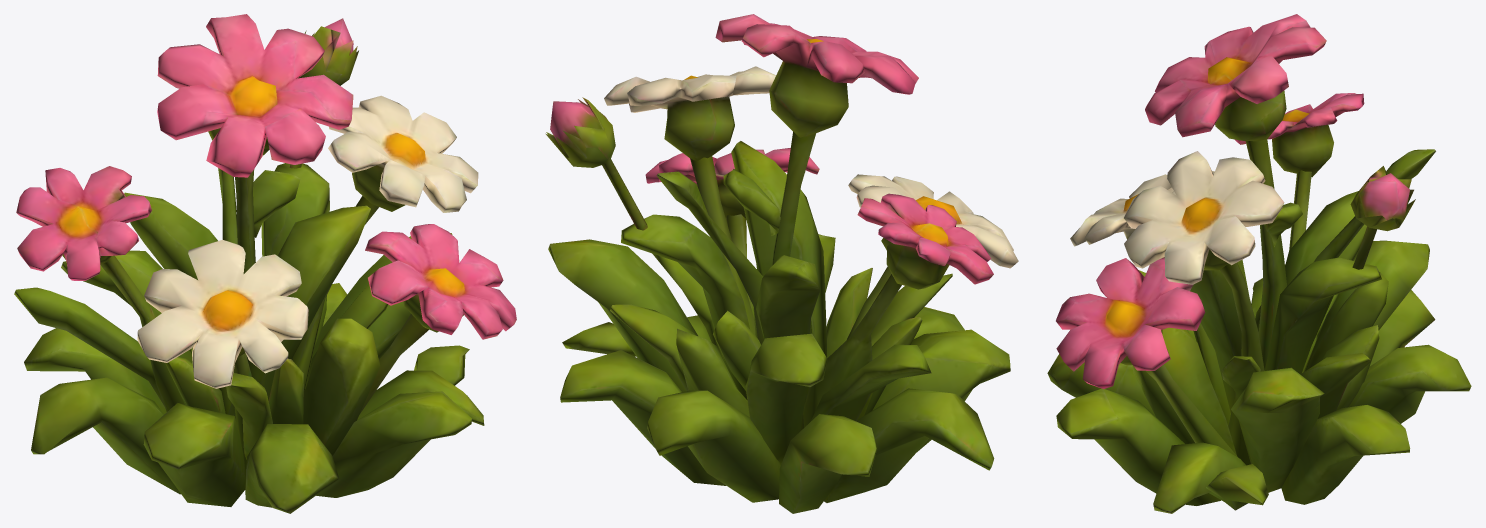
Rendered from fleurs_a.glb.
3 renders of one model, left to right at view 1: azimuth 30°, elevation 25°; view 2: azimuth 150°, elevation 25°; view 3: azimuth 270°, elevation 25°, orthographic. The views are drawn at different scales.
Parts seen in each view (by area): view 1: geometry_0; view 2: geometry_0; view 3: geometry_0.
Part boxes in pixels (x1,y1,x2,y2): geometry_0: (14, 14, 516, 513); geometry_0: (545, 14, 1018, 513); geometry_0: (1047, 14, 1471, 513).
Bounding box in the file's own units: 0.9614 × 0.9546 × 0.834.
1 material, 1 textured.
